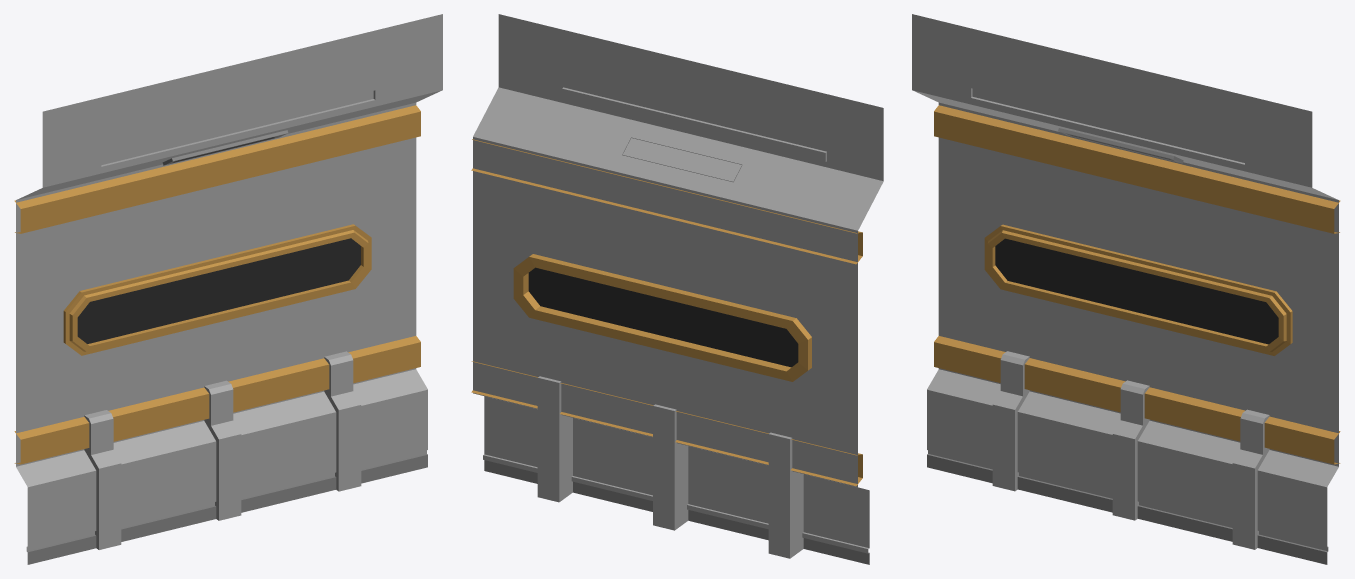
The model's file is LongWindow_Wall_SideB.fbx.
The picture shows the model from 3 angles, left to right: view 1: azimuth 30°, elevation 25°; view 2: azimuth 150°, elevation 25°; view 3: azimuth 330°, elevation 25°; orthographic projection. The views are drawn at different scales.
Visible parts, largest first — view 1: LongWindow_Wall_SideB; view 2: LongWindow_Wall_SideB; view 3: LongWindow_Wall_SideB.
Part boxes in pixels (x1,y1,x2,y2): LongWindow_Wall_SideB: [14, 14, 442, 564]; LongWindow_Wall_SideB: [471, 14, 883, 564]; LongWindow_Wall_SideB: [912, 14, 1340, 564].
Bounding box in the file's own units: 4 × 4.43 × 0.5355.
